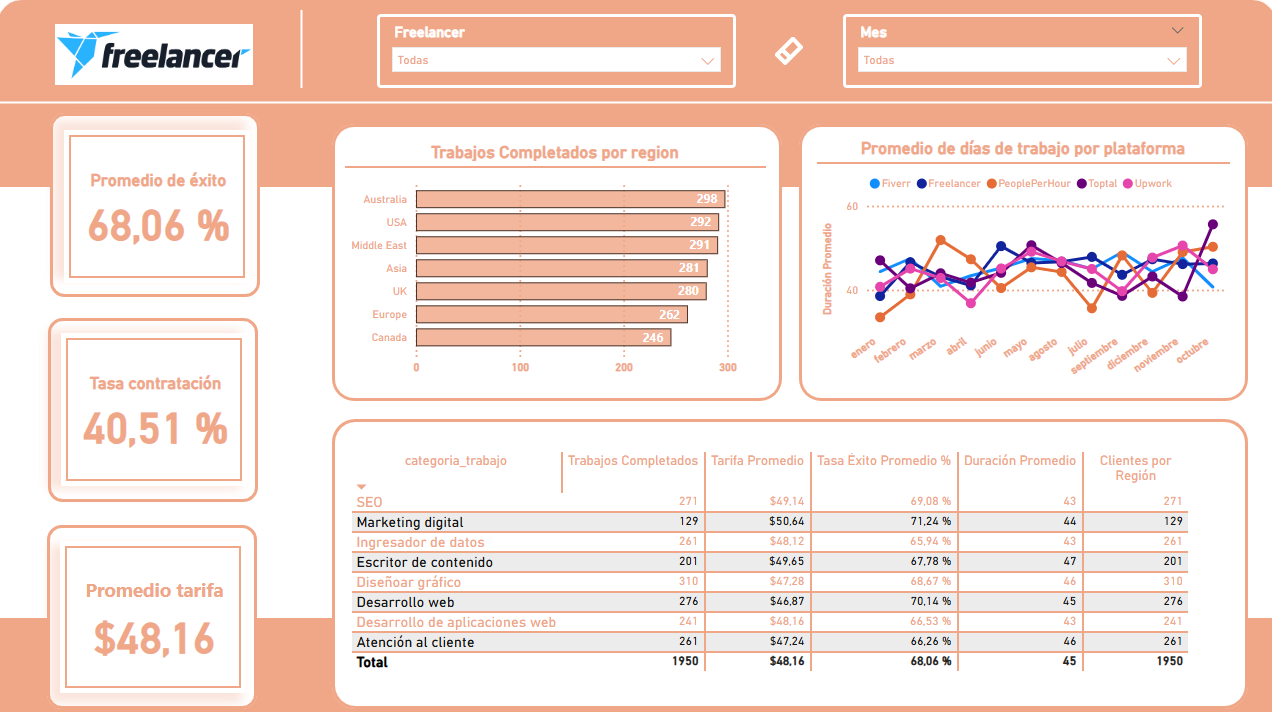

The dashboard page shown, as its layout file describes it:
{"tool":"powerbi","page":{"name":"Informe logística","canvas":[1280,720],"ordinal":0},"visuals":[{"type":"shape","box":[0,0,1280,189],"z":0},{"type":"shape","box":[0,30,1280,147],"z":1000},{"type":"shape","box":[0,618,1280,102],"z":2000},{"type":"shape","box":[801.7,124.7,449.2,277.3],"z":3000},{"type":"shape","box":[335.3,124.7,449.2,277.3],"z":4000},{"type":"shape","box":[53.4,113.7,209.6,184.5],"z":5000},{"type":"shape","box":[50.1,525.7,209.6,184.5],"z":6000},{"type":"shape","box":[51.2,318.6,209.6,184.5],"z":7000},{"type":"shape","box":[335.3,420.2,915.7,290.2],"z":8000},{"type":"cardVisual","fields":{"Data":["Medidas.Tasa Éxito Promedio %"]},"box":[66.6,131.1,185.9,152.6],"z":9000},{"type":"cardVisual","fields":{"Data":["Medidas.Tasa_Recontratacion_Promedio %"]},"box":[64.5,334.2,185.9,152.6],"z":10000},{"type":"cardVisual","fields":{"Data":["Medidas.Tarifa Promedio"]},"box":[63.4,541.7,185.9,152.6],"z":11000},{"type":"clusteredBarChart","fields":{"Category":["freelancersdb dim_clientes.region"],"Y":["Medidas.Trabajos Completados"]},"box":[348,143,421,239],"z":12000},{"type":"lineChart","title":"Promedio de días de trabajo por plataforma","fields":{"Category":["Calendario.Mes"],"Series":["freelancersdb dim_plataformas.Nombre"],"Y":["Medidas.Duración Promedio"]},"box":[820,138.6,412.7,255.8],"z":13000},{"type":"pivotTable","fields":{"Values":["Medidas.Trabajos Completados","Medidas.Tarifa Promedio","Medidas.Tasa Éxito Promedio %","Medidas.Duración Promedio","Medidas.Clientes por Región"],"Rows":["freelancersdb dim_freelancer.categoria_trabajo"]},"box":[350,448,883,234],"z":14000},{"type":"slicer","fields":{"Values":["Calendario.Mes"]},"box":[846,15,359,74],"z":15000},{"type":"slicer","fields":{"Values":["freelancersdb dim_freelancer.id_freelancer"]},"box":[380,15,359,74],"z":16000},{"type":"actionButton","box":[774,31,36,42],"z":17000},{"type":"shape","box":[293,11,23,78],"z":18000},{"type":"image","box":[53,7,208,96],"z":19000}]}

Visuals, with their boxes in screenshot pixels (x1, y1, x2, y2), scaled from the page's 1280x720 canvas onto the 1272x712 screenshot:
shape: l=0, t=0, r=1271, b=187
shape: l=0, t=30, r=1271, b=175
shape: l=0, t=611, r=1271, b=711
shape: l=797, t=123, r=1243, b=398
shape: l=333, t=123, r=780, b=398
shape: l=53, t=112, r=261, b=295
shape: l=50, t=520, r=258, b=702
shape: l=51, t=315, r=259, b=498
shape: l=333, t=416, r=1243, b=703
cardVisual - Medidas.Tasa Éxito Promedio %: l=66, t=130, r=251, b=281
cardVisual - Medidas.Tasa_Recontratacion_Promedio %: l=64, t=330, r=249, b=481
cardVisual - Medidas.Tarifa Promedio: l=63, t=536, r=248, b=687
clusteredBarChart - freelancersdb dim_clientes.region x Medidas.Trabajos Completados: l=346, t=141, r=764, b=378
"Promedio de días de trabajo por plataforma" lineChart: l=815, t=137, r=1225, b=390
pivotTable - Medidas.Trabajos Completados x Medidas.Tarifa Promedio: l=348, t=443, r=1225, b=674
slicer - Calendario.Mes: l=841, t=15, r=1197, b=88
slicer - freelancersdb dim_freelancer.id_freelancer: l=378, t=15, r=734, b=88
actionButton: l=769, t=31, r=805, b=72
shape: l=291, t=11, r=314, b=88
image: l=53, t=7, r=259, b=102
